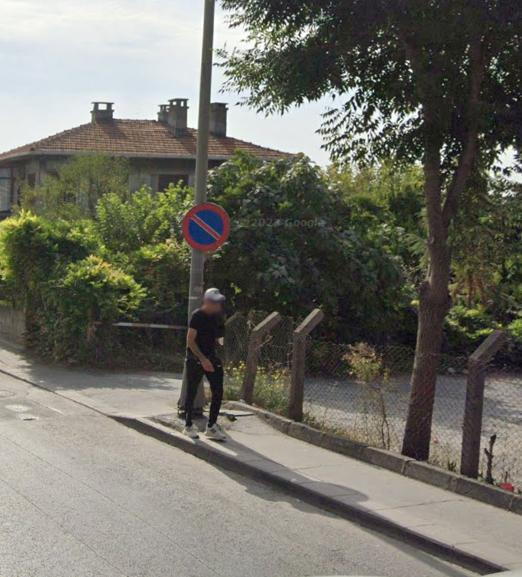nopark: (185, 203, 227, 252)
